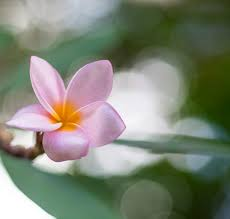frangipani: (6, 56, 128, 162)
